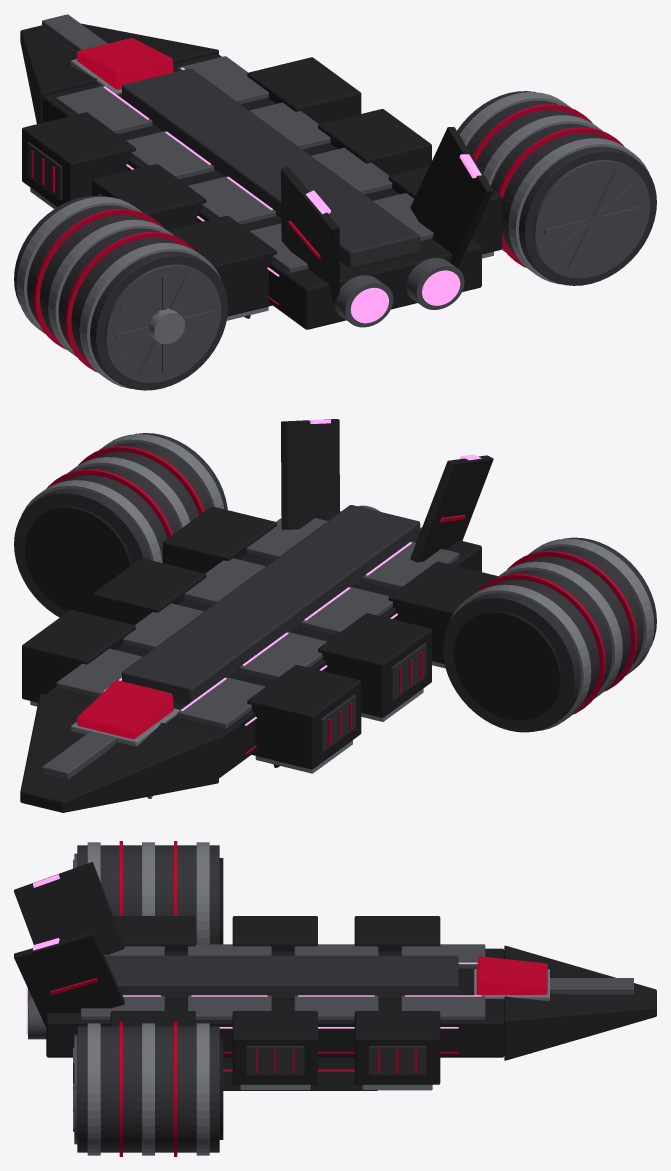
The model's file is dropship.fbx.
The picture shows the model from 3 angles, top to bottom: view 1: azimuth 30°, elevation 25°; view 2: azimuth 150°, elevation 25°; view 3: azimuth 270°, elevation 25°; orthographic projection. The views are drawn at different scales.
Parts seen in each view (by area): view 1: Espina_Dorsal, Turbina_Nucleo_-1, Casco_Principal, Turbina_Nucleo_1, Turbina_Marco_1, Turbina_Marco_-1, Bloque_-1_2, Deriva_1, Bloque_-1_0, Proa, Bloque_1_2, Bloque_1_1 (+29 smaller); view 2: Espina_Dorsal, Proa, Turbina_Nucleo_-1, Turbina_Intake_-1, Turbina_Nucleo_1, Turbina_Intake_1, Bloque_-1_2, Bloque_-1_1, Deriva_1, Bloque_1_2, Casco_Principal, Bloque_1_1 (+26 smaller); view 3: Espina_Dorsal, Turbina_Nucleo_1, Casco_Principal, Proa, Turbina_Nucleo_-1, Deriva_1, Deriva_-1, Bloque_1_2, Bloque_1_1, Bloque_-1_2, Bloque_-1_1, Cabina_Cristal (+25 smaller).
Boxes of the visible parts, x1,y1,x2,y2 form: Espina_Dorsal: [122, 68, 420, 268]; Turbina_Nucleo_-1: [14, 195, 227, 390]; Casco_Principal: [42, 54, 481, 329]; Turbina_Nucleo_1: [457, 91, 656, 285]; Turbina_Marco_1: [533, 160, 649, 278]; Turbina_Marco_-1: [104, 264, 221, 382]; Bloque_-1_2: [22, 112, 135, 206]; Deriva_1: [410, 127, 493, 268]; Bloque_-1_0: [167, 215, 276, 316]; Proa: [20, 23, 218, 123]; Bloque_1_2: [247, 57, 361, 124]; Bloque_1_1: [318, 109, 431, 175]; Espina_Dorsal: [122, 505, 420, 704]; Proa: [20, 693, 218, 812]; Turbina_Nucleo_-1: [443, 537, 656, 732]; Turbina_Intake_-1: [453, 611, 561, 720]; Turbina_Nucleo_1: [14, 433, 227, 617]; Turbina_Intake_1: [25, 506, 131, 614]; Bloque_-1_2: [247, 665, 361, 769]; Bloque_-1_1: [318, 613, 431, 717]; Deriva_1: [281, 419, 339, 529]; Bloque_1_2: [22, 610, 135, 702]; Casco_Principal: [45, 510, 481, 778]; Bloque_1_1: [92, 558, 206, 624]; Espina_Dorsal: [104, 955, 458, 999]; Turbina_Nucleo_1: [77, 1026, 219, 1152]; Casco_Principal: [46, 948, 504, 1057]; Proa: [504, 945, 656, 1060]; Turbina_Nucleo_-1: [77, 845, 219, 944]; Deriva_1: [14, 931, 124, 1026]; Deriva_-1: [14, 862, 124, 954]; Bloque_1_2: [354, 1011, 440, 1084]; Bloque_1_1: [232, 1011, 317, 1084]; Bloque_-1_2: [354, 916, 440, 951]; Bloque_-1_1: [232, 916, 317, 951]; Cabina_Cristal: [476, 956, 547, 994].
Bounding box in the file's own units: 37.33 × 11.8 × 42.13.
